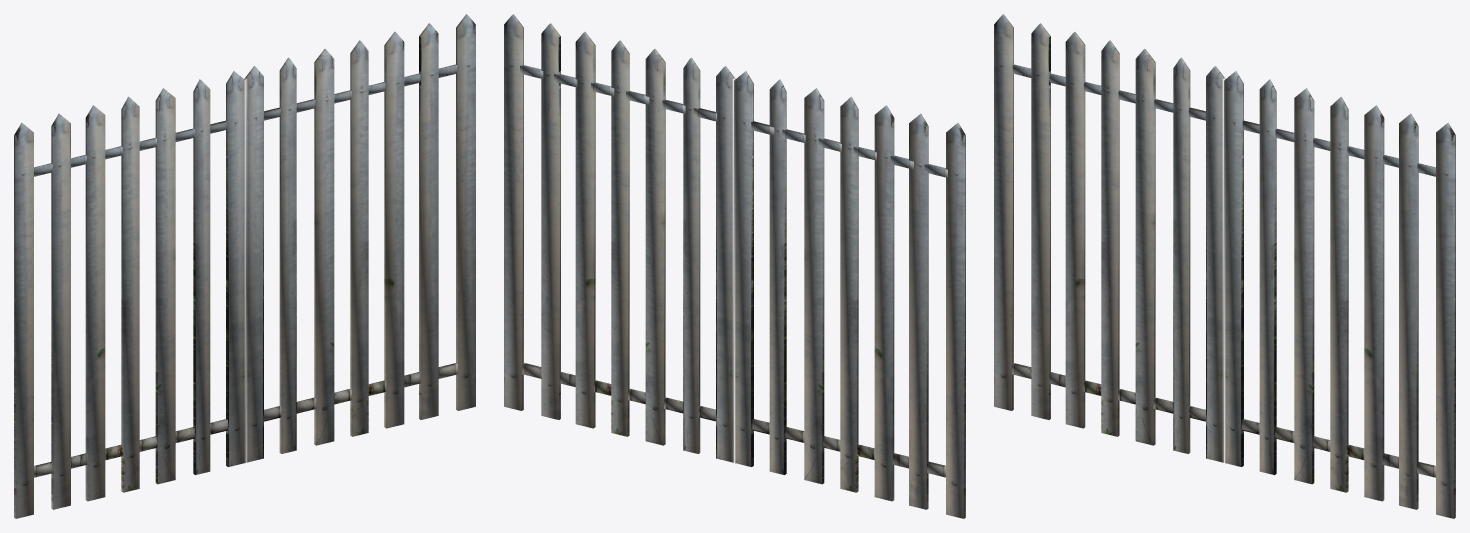
The model's file is fence.obj.
3 views of the same model, side by side, from view 1: azimuth 30°, elevation 25°; view 2: azimuth 150°, elevation 25°; view 3: azimuth 330°, elevation 25° (orthographic).
Parts seen in each view (by area): view 1: fence; view 2: fence; view 3: fence.
Boxes of the visible parts, x1,y1,x2,y2 form: fence: (14,14,475,518); fence: (504,14,965,518); fence: (994,14,1455,518).
Size of the model in its own units: 127 by 104 by 0.986.
Materials: 1 (1 with a texture image).
